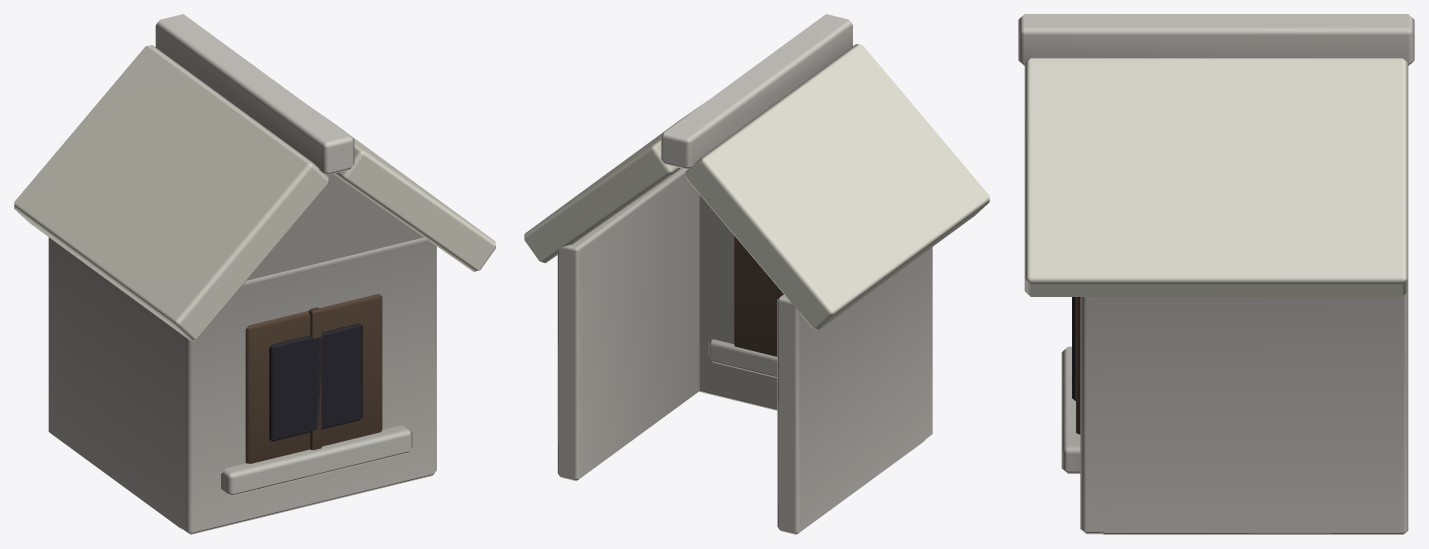
Rendered from thatch-dormer.glb.
3 renders of one model, left to right at view 1: azimuth 30°, elevation 25°; view 2: azimuth 150°, elevation 25°; view 3: azimuth 270°, elevation 25°, orthographic. The views are drawn at different scales.
Visible parts, largest first — view 1: body; view 2: body; view 3: body.
Part boxes in pixels (<box>): body: <box>14,14,495,534</box>; body: <box>524,14,989,534</box>; body: <box>1018,14,1414,534</box>.
Size of what is drawn, in the model's own units: 0.6908 by 0.795 by 0.64.
